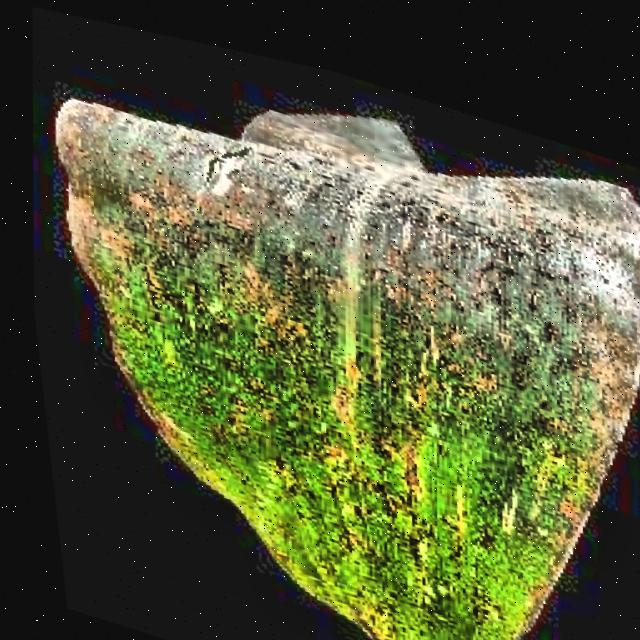common_rust: (27, 81, 640, 640)
